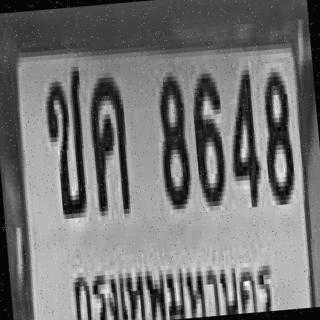A04: (86, 72, 130, 212)
A10: (42, 62, 89, 215)
N04: (222, 65, 260, 204)
N06: (188, 68, 227, 202)
N08: (153, 71, 191, 206), (257, 66, 294, 201)
P04: (65, 242, 283, 320)
